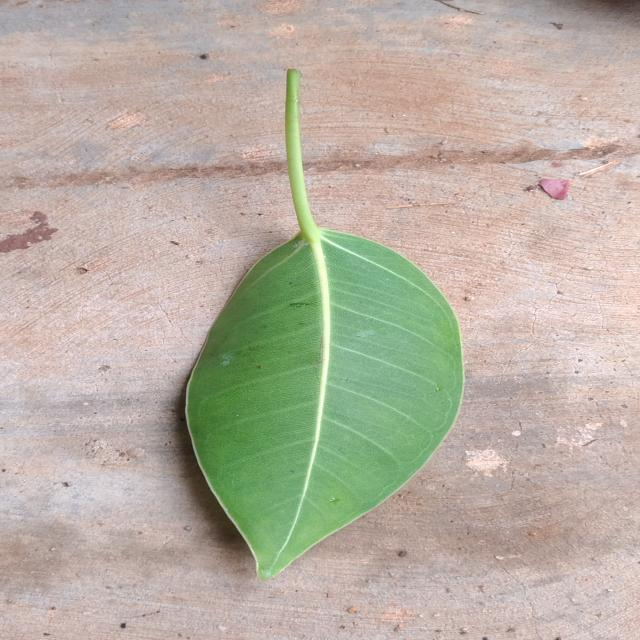camphor: (187, 69, 464, 579)
